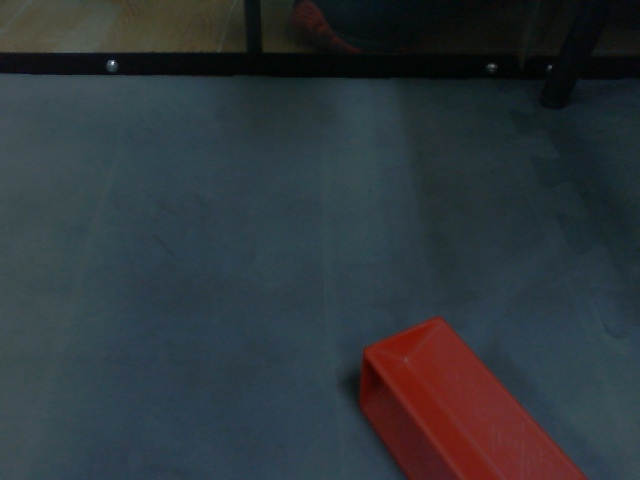RedSample: (355, 312, 591, 480)
